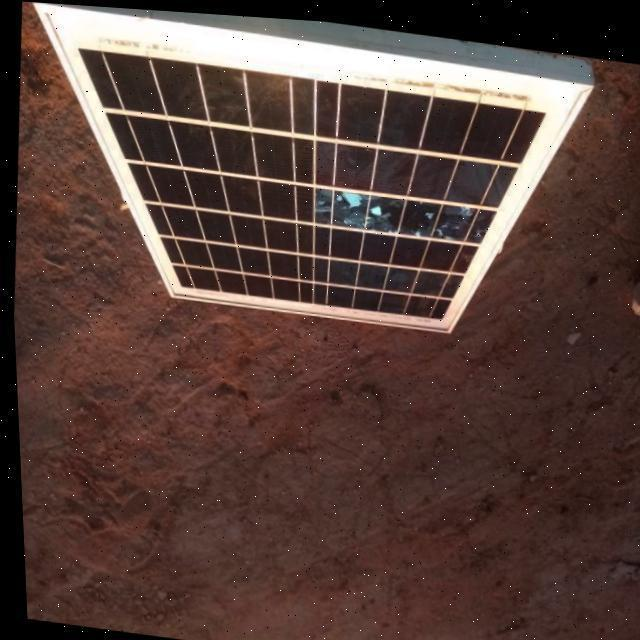Normal Solar Panel: (17, 1, 596, 342)
